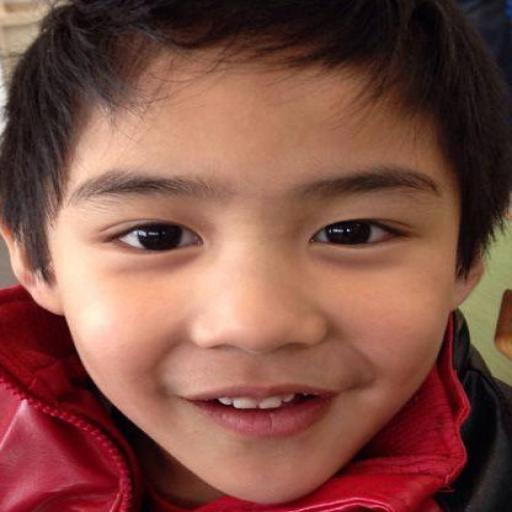Autism: (12, 10, 512, 478)
